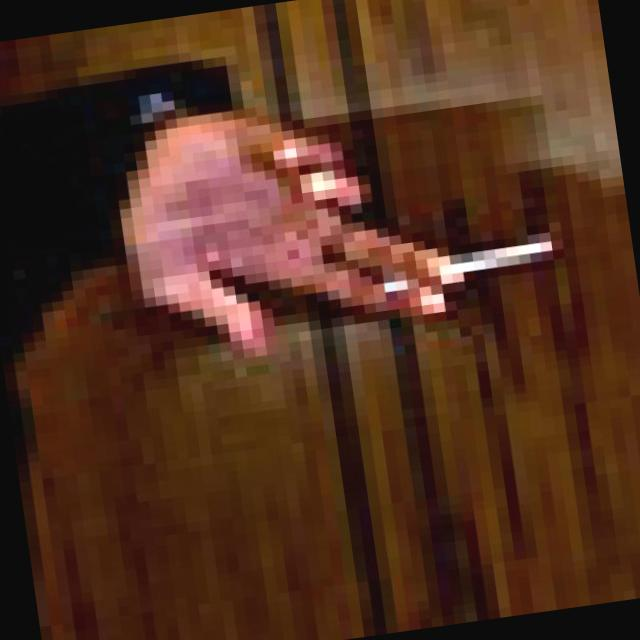smoke: (383, 247, 580, 310)
